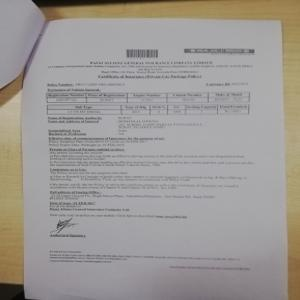table: (45, 90, 252, 103), (46, 103, 250, 116)
text: (46, 115, 250, 147), (49, 147, 257, 170), (47, 60, 252, 80)
